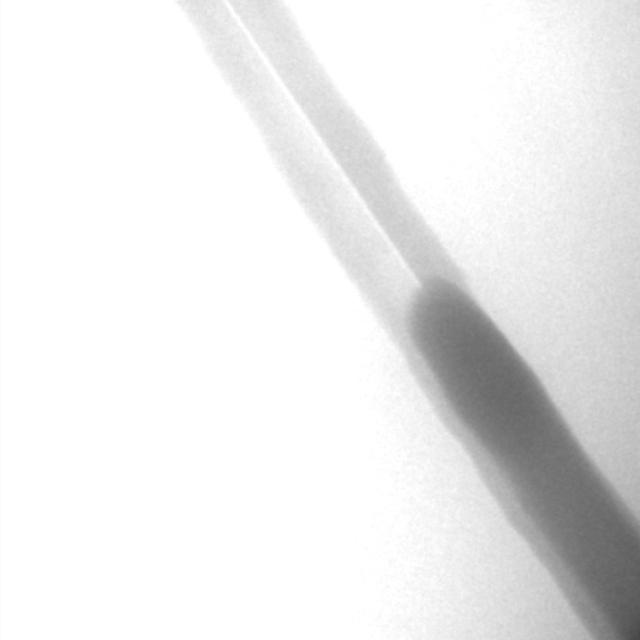broken arc: (228, 2, 421, 287)
